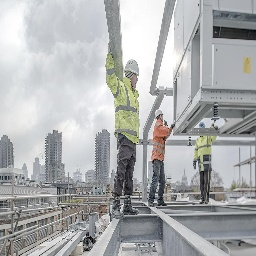helmet: (123, 59, 139, 82), (154, 107, 165, 124)
person: (106, 59, 143, 218), (149, 108, 172, 209)
vest: (115, 78, 141, 146)
